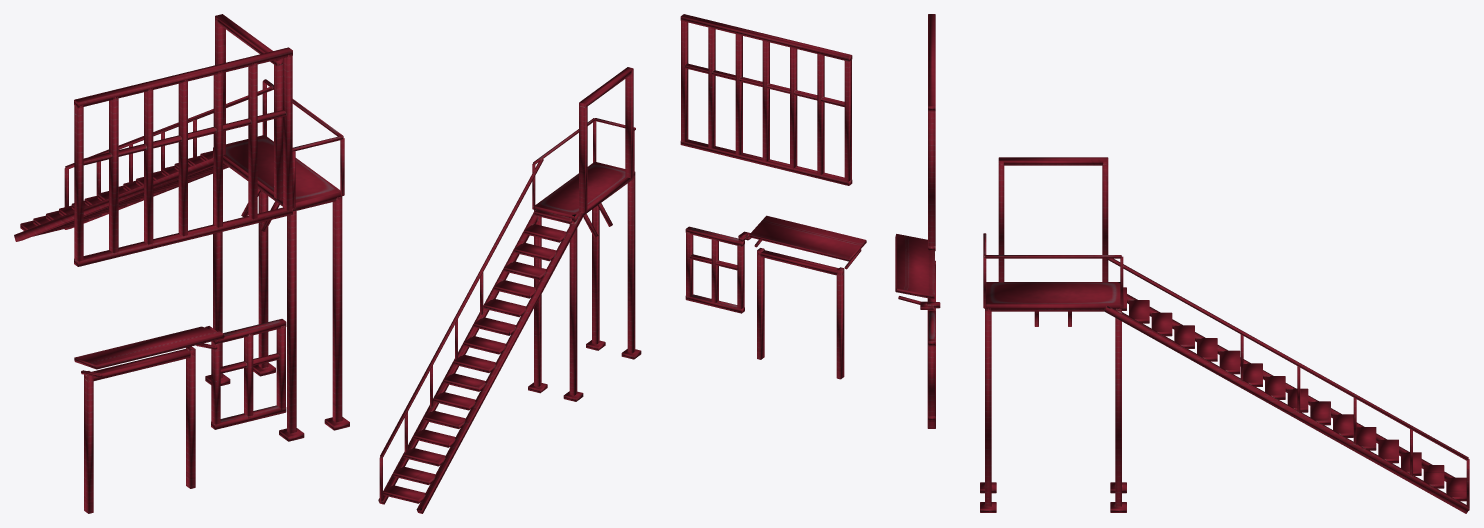
The model's file is Albatros_Herreria.fbx.
3 views of the same model, side by side, from view 1: azimuth 30°, elevation 25°; view 2: azimuth 150°, elevation 25°; view 3: azimuth 270°, elevation 25° (orthographic). The views are drawn at different scales.
Parts seen in each view (by area): view 1: Albatros_Herreria; view 2: Albatros_Herreria; view 3: Albatros_Herreria.
Part boxes in pixels (x1,y1,x2,y2): Albatros_Herreria: [14, 14, 349, 513]; Albatros_Herreria: [378, 14, 866, 513]; Albatros_Herreria: [895, 14, 1469, 513].
Bounding box in the file's own units: 18.5 × 24.73 × 34.58.
